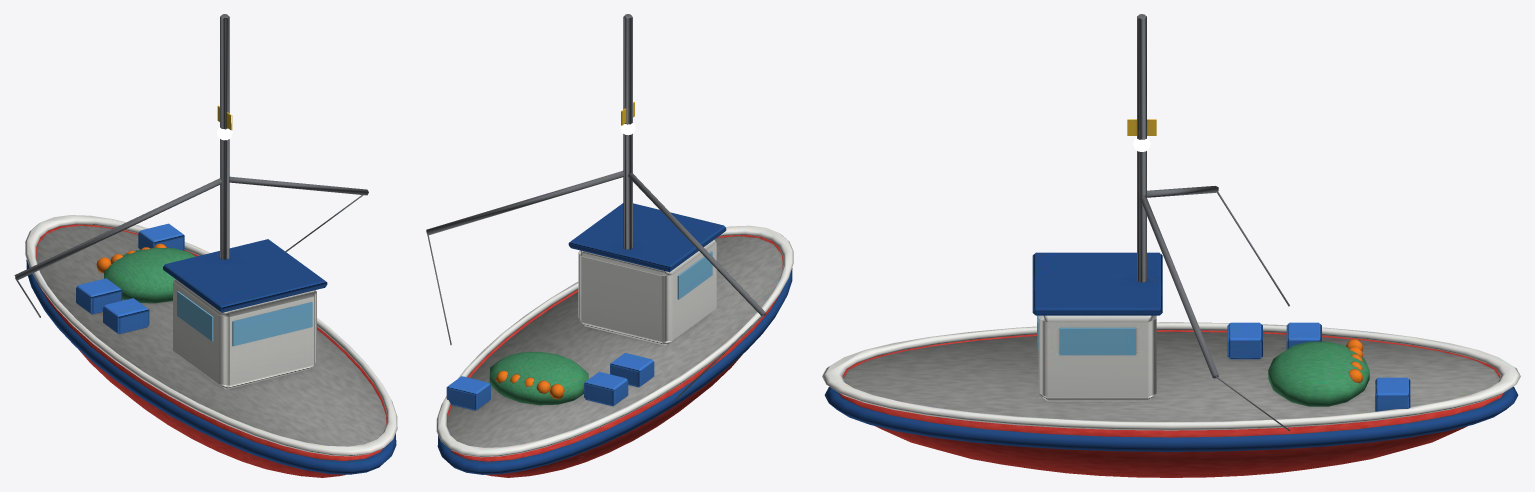
The model's file is fishing_boat.glb.
3 views of the same model, side by side, from view 1: azimuth 30°, elevation 25°; view 2: azimuth 150°, elevation 25°; view 3: azimuth 270°, elevation 25° (orthographic). The views are drawn at different scales.
Parts seen in each view (by area): view 1: fishing_boat; view 2: fishing_boat; view 3: fishing_boat.
Boxes of the visible parts, x1,y1,x2,y2 form: fishing_boat: [14, 14, 397, 477]; fishing_boat: [426, 14, 793, 477]; fishing_boat: [822, 14, 1520, 477].
Size of the model in its own units: 1.51 by 1.68 by 2.37.
1 material, 1 textured.
